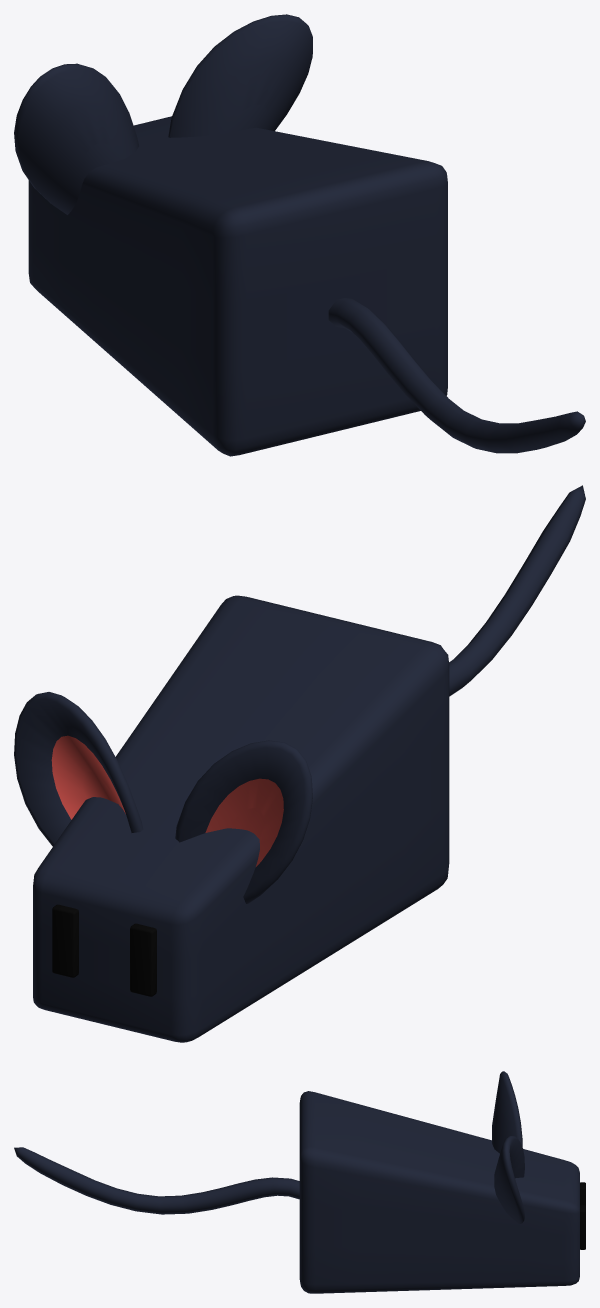
Rendered from Character_Mouse_01a.fbx.
The picture shows the model from 3 angles, top to bottom: view 1: azimuth 30°, elevation 25°; view 2: azimuth 150°, elevation 25°; view 3: azimuth 270°, elevation 25°; orthographic projection. The views are drawn at different scales.
Visible parts, largest first — view 1: Character_Mouse_01a; view 2: Character_Mouse_01a; view 3: Character_Mouse_01a.
Part boxes in pixels (left/top/right/bottom): Character_Mouse_01a: left=14, top=14, right=585, bottom=456; Character_Mouse_01a: left=14, top=485, right=585, bottom=1042; Character_Mouse_01a: left=14, top=1071, right=585, bottom=1293.
Size of the model in its own units: 11.88 by 10.37 by 33.58.
